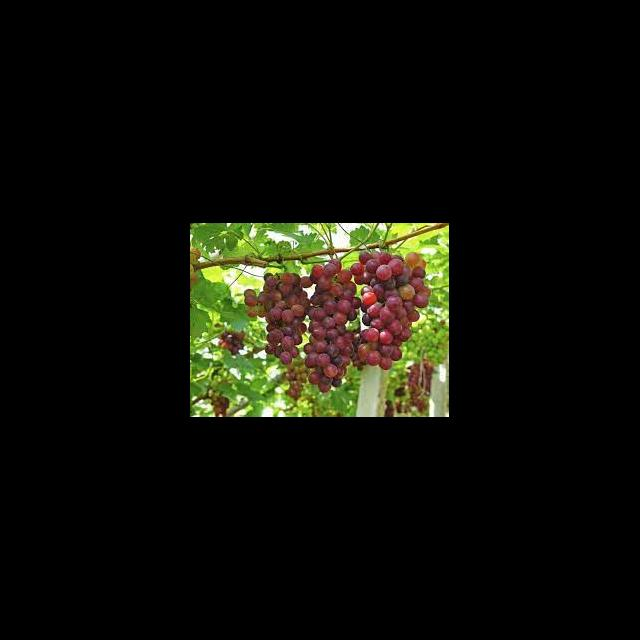grape: (244, 250, 432, 400), (218, 329, 246, 354)
